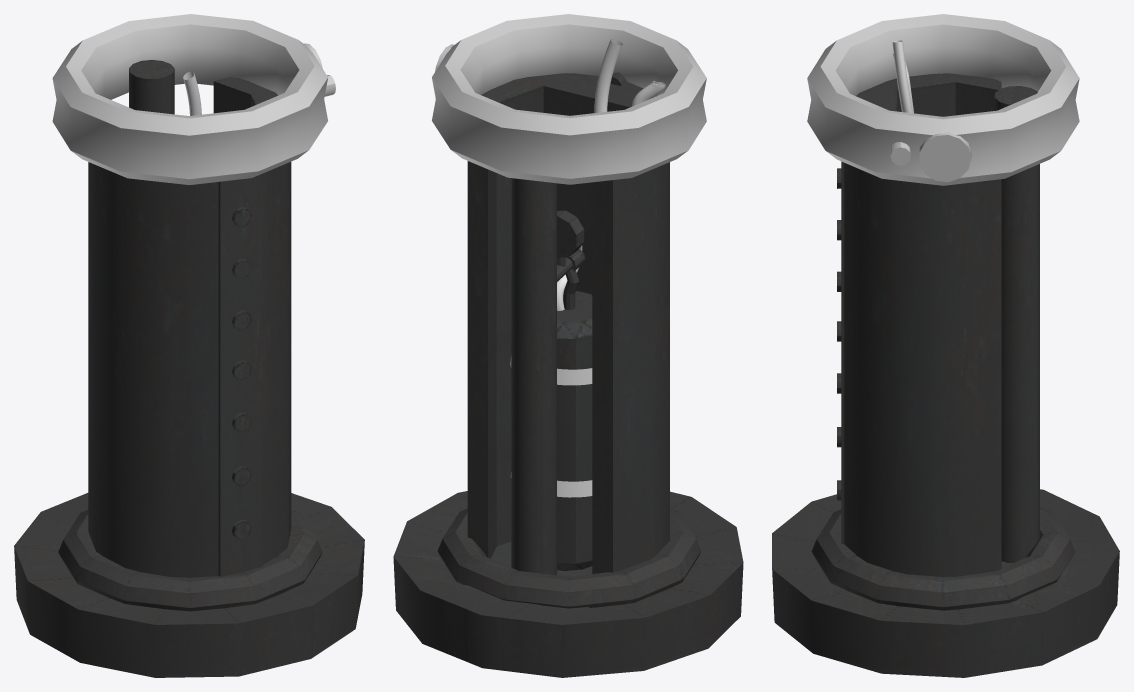
File: Pistoncolored.fbx
3 views of the same model, side by side, from view 1: azimuth 30°, elevation 25°; view 2: azimuth 150°, elevation 25°; view 3: azimuth 270°, elevation 25° (orthographic).
Visible parts, largest first — view 1: Torus.001, Torus, BezierCurve.002; view 2: Torus.001, Torus, BezierCurve.002, BezierCurve.001, BezierCurve; view 3: Torus.001, Torus, BezierCurve.002.
Boxes of the visible parts, box(x1,y1,x2,y2) form: Torus.001: box(14, 60, 364, 677); Torus: box(52, 14, 335, 185); BezierCurve.002: box(183, 71, 201, 115); Torus.001: box(393, 72, 743, 677); Torus: box(432, 14, 706, 184); BezierCurve.002: box(557, 38, 665, 310); BezierCurve.001: box(510, 356, 592, 385); BezierCurve: box(510, 472, 592, 497); Torus.001: box(772, 73, 1119, 677); Torus: box(807, 14, 1079, 185); BezierCurve.002: box(892, 40, 913, 113).
Size of the model in its own units: 412 by 718 by 409.
